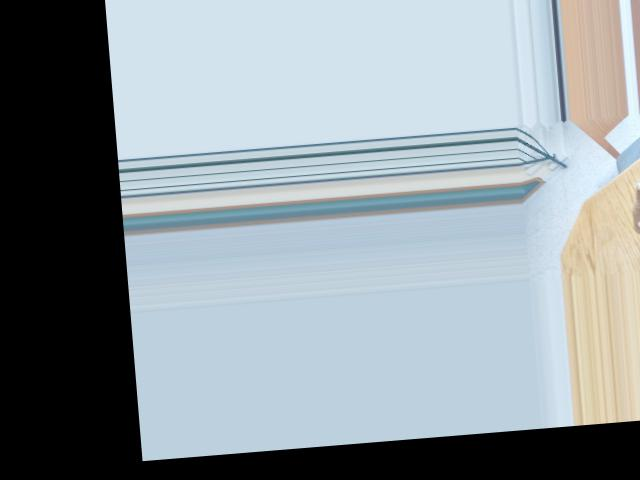sweet_potato: (630, 186, 640, 233)
